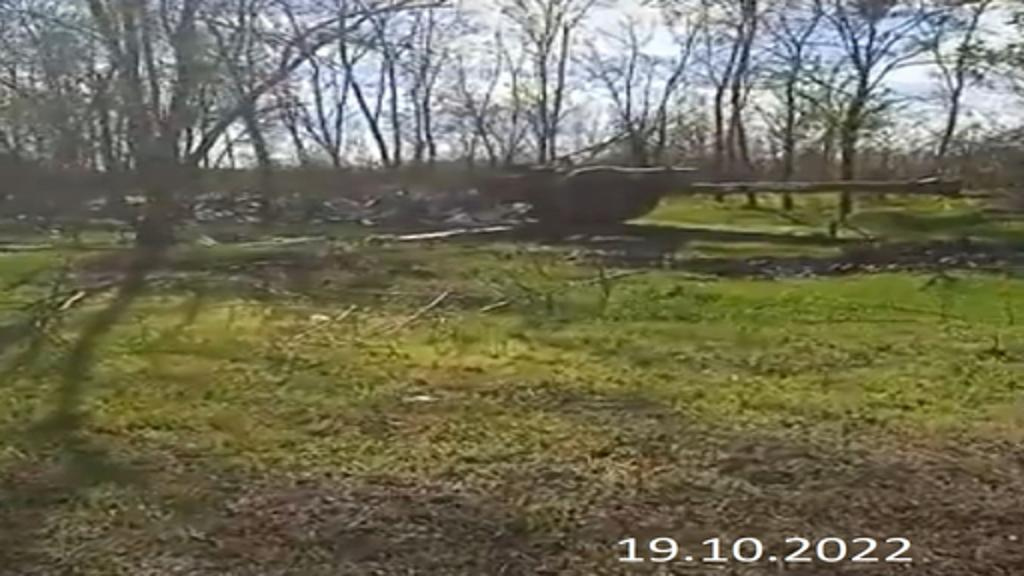ART: (482, 158, 964, 252)
